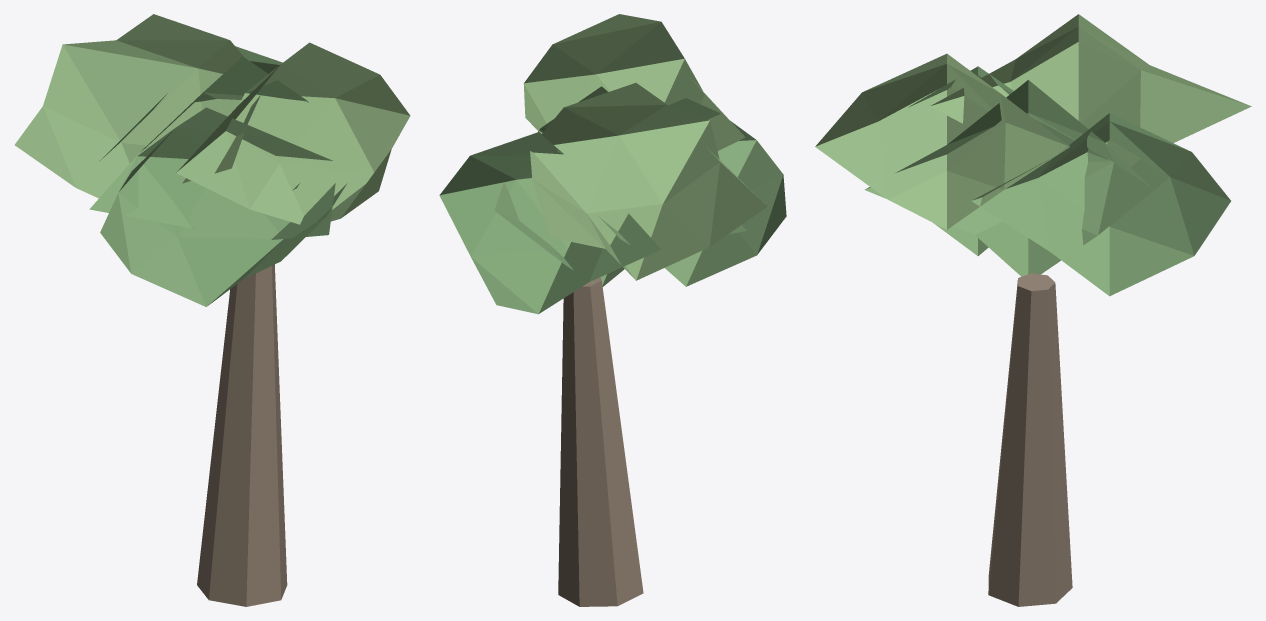
Rendered from broadleaf_v07.glb.
3 renders of one model, left to right at view 1: azimuth 30°, elevation 25°; view 2: azimuth 150°, elevation 25°; view 3: azimuth 270°, elevation 25°, orthographic. The views are drawn at different scales.
Visible parts, largest first — view 1: lod0; view 2: lod0; view 3: lod0.
Part boxes in pixels (<box>): lod0: <box>15,14,410,606</box>; lod0: <box>439,14,786,606</box>; lod0: <box>815,14,1251,606</box>.
Size of what is drawn, in the model's own units: 2.96 by 4.91 by 3.55.
